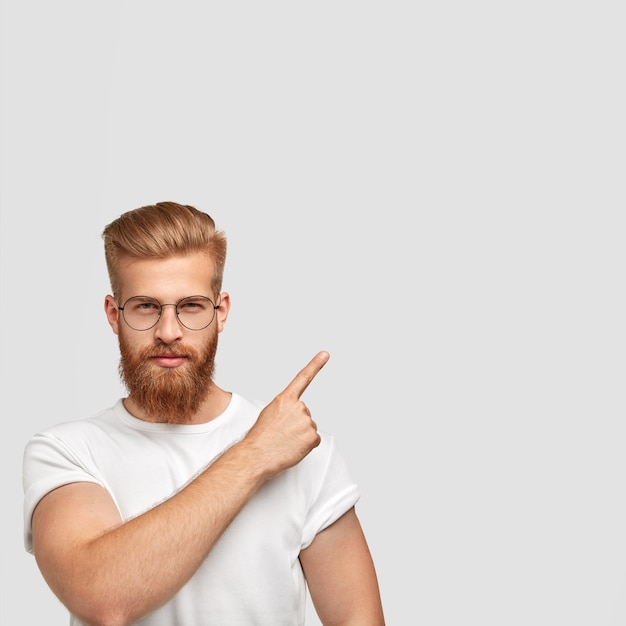young: (89, 197, 236, 415)
